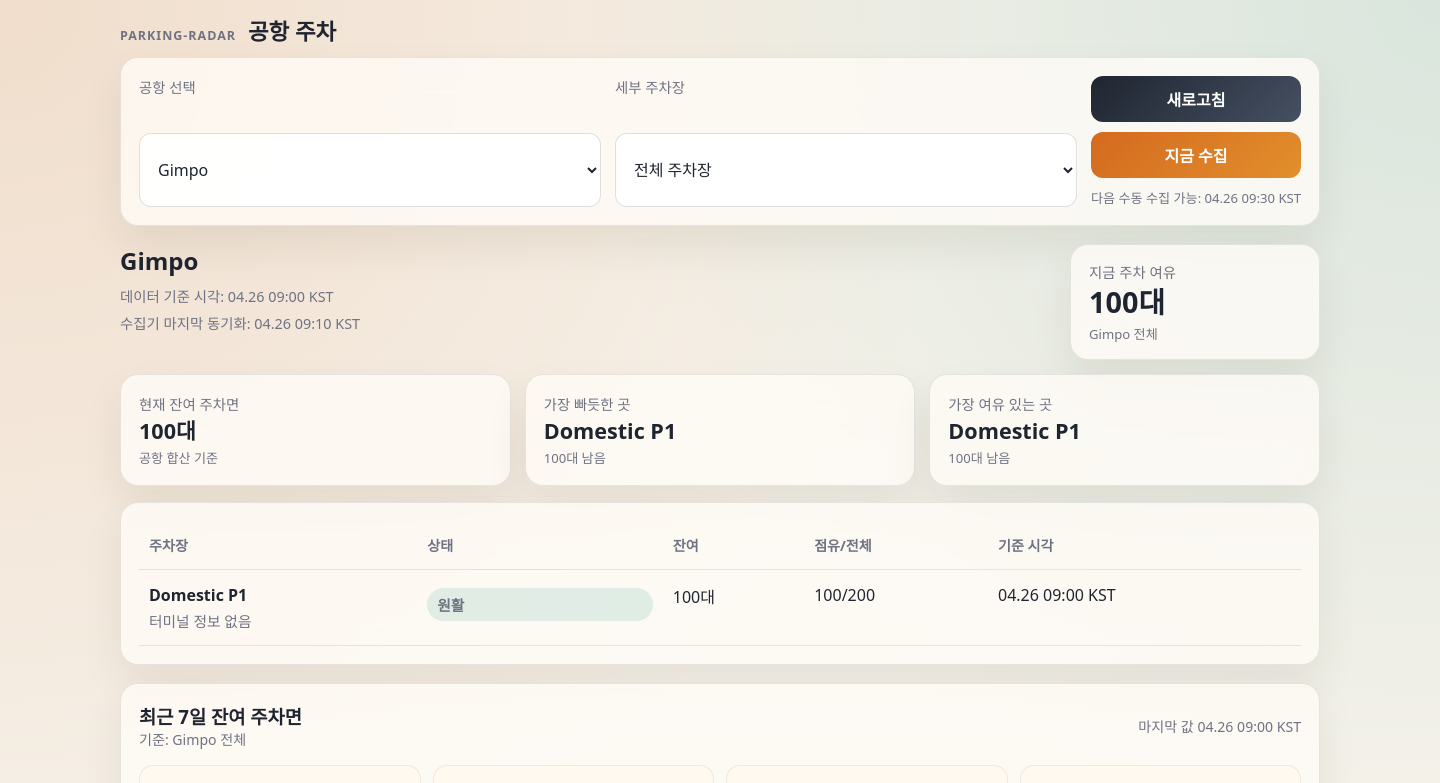
DashboardApp › shows the collector cooldown using the reported interval minutes
Click the button with test id "manual-collect-button" at (1196, 155), box [1091, 132, 1301, 178]
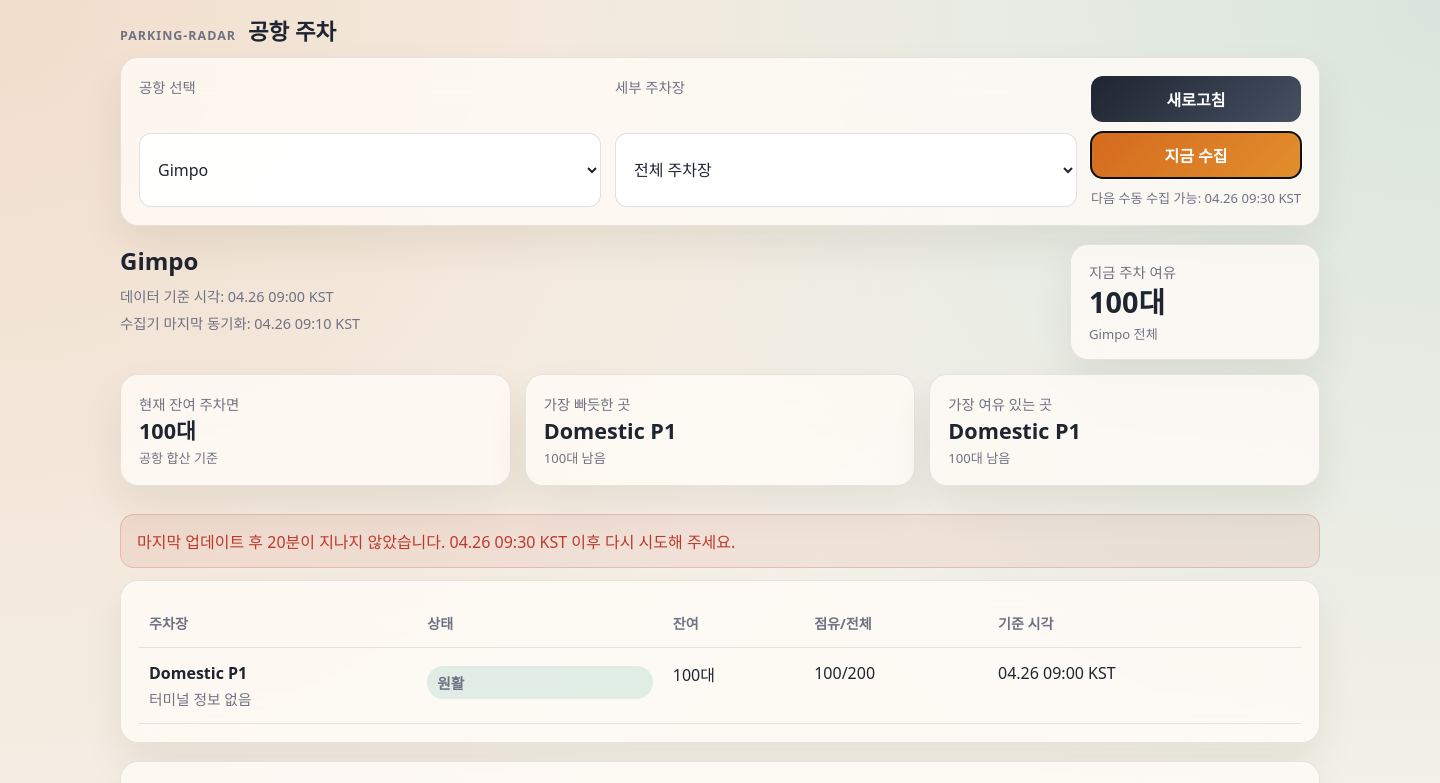
Now the text "마지막 업데이트 후 20분이 지나지 않았습니다. 04.26 09:30 KST 이후 다시 시도해 주세요." is shown, box [120, 514, 1320, 568]
